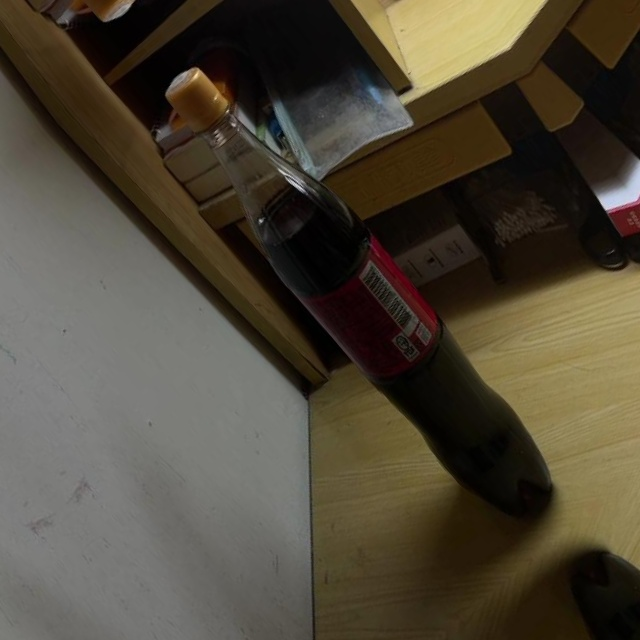Coca-Cola: (137, 45, 578, 544)
